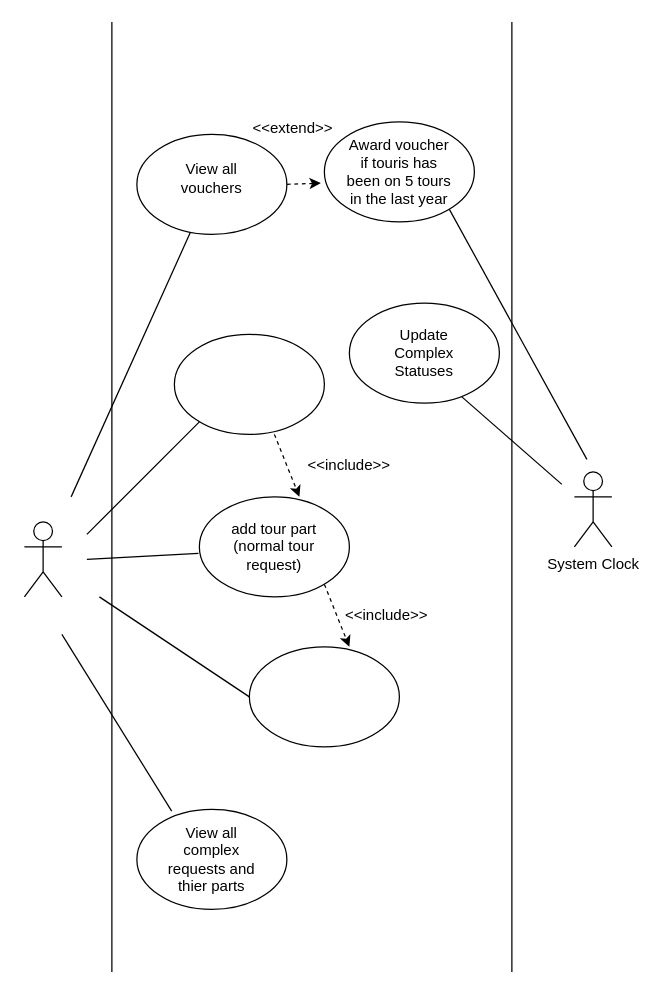
The diagram is 660 pixels wide and 995 high, and some of its shapes have lost their labels. The shapes that lost their labels are listed below. From the top down, each one's box as (x1, y1, x2, y2) in pixels, then its label:
(173, 333, 324, 434): Create Complex Tour
(23, 521, 62, 597): Tourist
(248, 646, 399, 747): Add person
